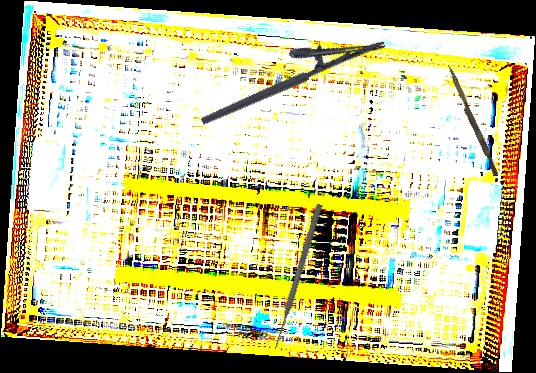Needle Holder: (189, 14, 387, 127)
Pusher: (271, 202, 324, 351), (443, 63, 501, 177)
